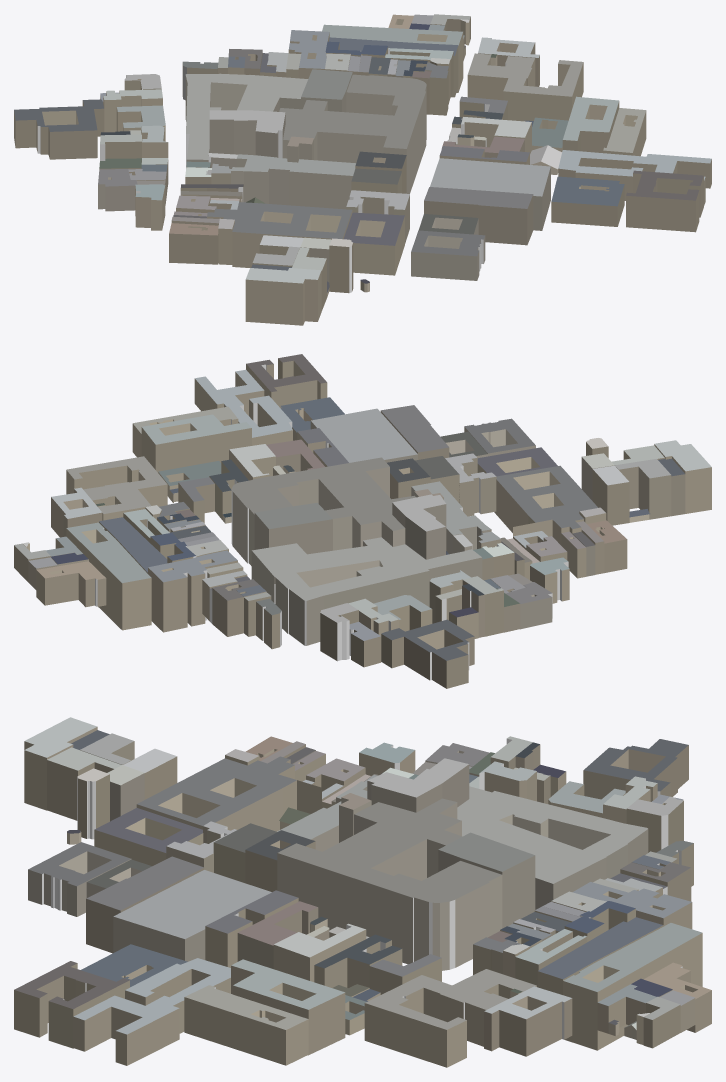
3 renders of one model, top to bottom at view 1: azimuth 30°, elevation 25°; view 2: azimuth 150°, elevation 25°; view 3: azimuth 270°, elevation 25°, orthographic. The views are drawn at different scales.
Parts seen in each view (by area): view 1: tuile; view 2: tuile; view 3: tuile.
Boxes of the visible parts, box(x1,y1,x2,y2) form: tuile: box(14, 14, 711, 325); tuile: box(14, 354, 711, 688); tuile: box(14, 717, 711, 1067).
Size of the model in its own units: 282 by 44.2 by 279.
